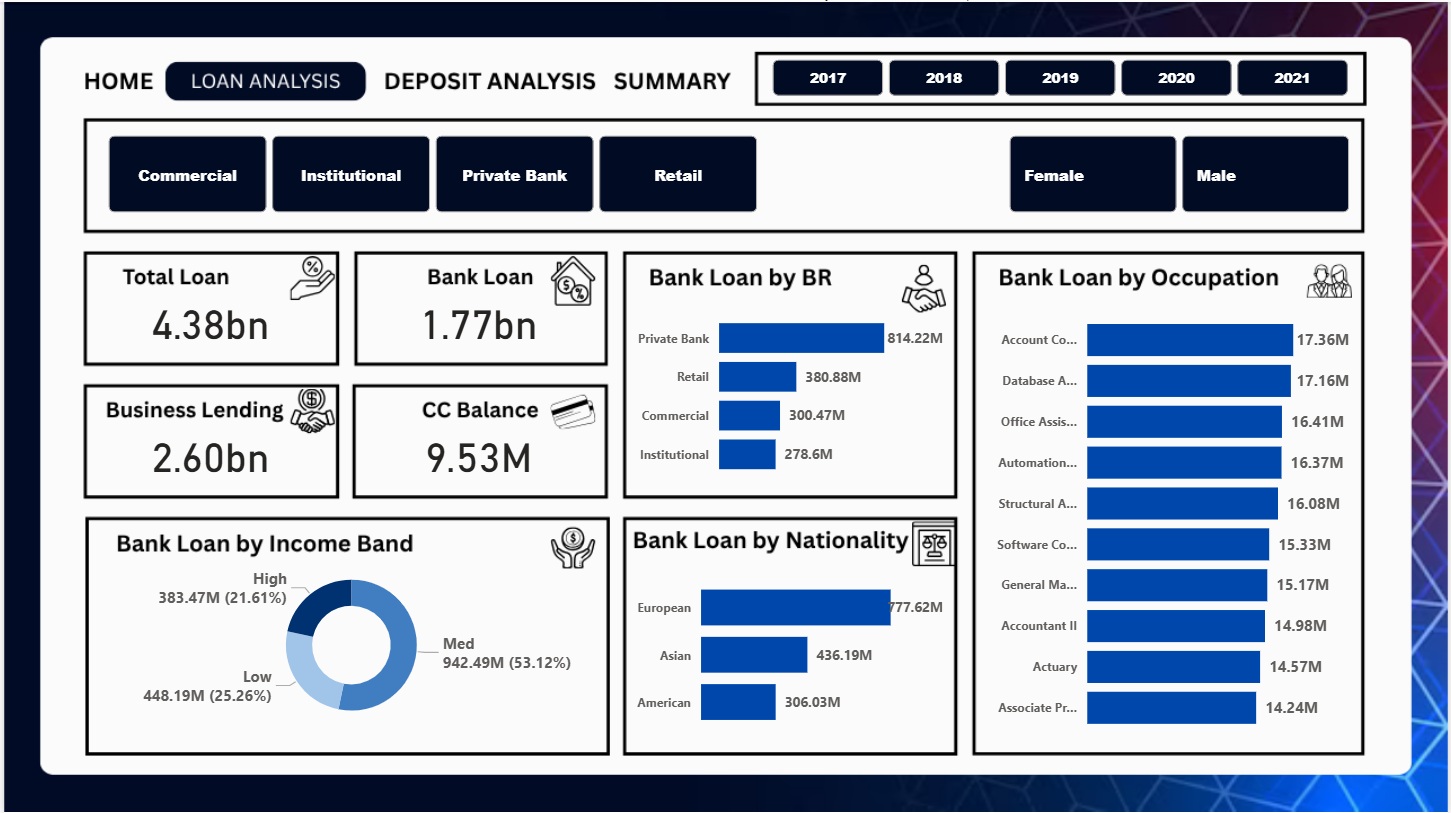

Layout of this report page (visuals, bound fields, positions):
{"tool":"powerbi","page":{"name":"Loan Analysis","canvas":[1280,720],"ordinal":2},"visuals":[{"type":"advancedSlicerVisual","fields":{"Values":["bank_db customer.Year of Joining"]},"box":[676.8,45.8,521.2,42.2],"z":0},{"type":"actionButton","box":[57.9,48.3,82,39.8],"z":1000},{"type":"actionButton","box":[325.7,49.5,197.9,39.8],"z":2000},{"type":"actionButton","box":[535.7,49.5,117,39.8],"z":3000},{"type":"card","fields":{"Values":["bank_db customer.Total Loan"]},"box":[88.1,249.7,190.6,66.4],"z":4000},{"type":"card","fields":{"Values":["Sum(bank_db customer.Bank Loans)"]},"box":[325.7,249.7,190.6,66.4],"z":5000},{"type":"card","fields":{"Values":["Sum(bank_db customer.Business Lending)"]},"box":[88.1,368,190.6,66.4],"z":6000},{"type":"card","fields":{"Values":["Sum(bank_db customer.Credit Card Balance)"]},"box":[325.7,368,190.6,66.4],"z":7000},{"type":"donutChart","fields":{"Category":["bank_db customer.Income Band"],"Y":["Sum(bank_db customer.Bank Loans)"]},"box":[98.9,491,417.4,158],"z":8000},{"type":"clusteredBarChart","fields":{"Category":["bank_db customer.BRId"],"Y":["Sum(bank_db customer.Bank Loans)"]},"box":[555,258.2,282.3,176.1],"z":9000},{"type":"clusteredBarChart","fields":{"Y":["Sum(bank_db customer.Bank Loans)"],"Category":["bank_db customer.Nationality"]},"box":[555,491,282.3,168.9],"z":10000},{"type":"clusteredBarChart","fields":{"Y":["Sum(bank_db customer.Bank Loans)"],"Category":["bank_db customer.Occupation"]},"box":[864.5,258,333.4,402.1],"z":11000},{"type":"advancedSlicerVisual","fields":{"Values":["bank_db customer.BRId"]},"box":[88.1,113.4,588.7,78.4],"z":12000},{"type":"advancedSlicerVisual","fields":{"Values":["bank_db customer.GenderId"]},"box":[886.7,113.4,311.3,78.4],"z":13000}]}

Visuals, with their boxes in screenshot pixels (x1, y1, x2, y2), scaled from the page's 1280x720 canvas onto the 1451x813 screenshot:
advancedSlicerVisual - bank_db customer.Year of Joining: 767, 52, 1358, 99
actionButton: 66, 55, 159, 99
actionButton: 369, 56, 594, 101
actionButton: 607, 56, 740, 101
card - bank_db customer.Total Loan: 100, 282, 316, 357
card - Sum(bank_db customer.Bank Loans): 369, 282, 585, 357
card - Sum(bank_db customer.Business Lending): 100, 416, 316, 491
card - Sum(bank_db customer.Credit Card Balance): 369, 416, 585, 491
donutChart - bank_db customer.Income Band x Sum(bank_db customer.Bank Loans): 112, 554, 585, 733
clusteredBarChart - bank_db customer.BRId x Sum(bank_db customer.Bank Loans): 629, 292, 949, 490
clusteredBarChart - Sum(bank_db customer.Bank Loans) x bank_db customer.Nationality: 629, 554, 949, 745
clusteredBarChart - Sum(bank_db customer.Bank Loans) x bank_db customer.Occupation: 980, 291, 1358, 745
advancedSlicerVisual - bank_db customer.BRId: 100, 128, 767, 217
advancedSlicerVisual - bank_db customer.GenderId: 1005, 128, 1358, 217
